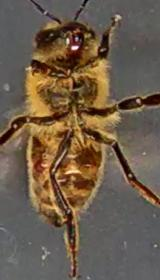varroa_mite: (30, 154, 54, 175)
